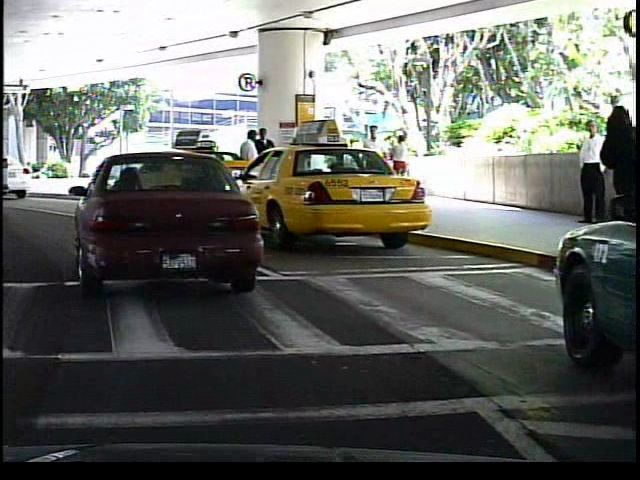person: (594, 98, 639, 259), (565, 112, 602, 228), (358, 118, 392, 204), (233, 127, 264, 206), (385, 130, 411, 196), (255, 125, 276, 202)
